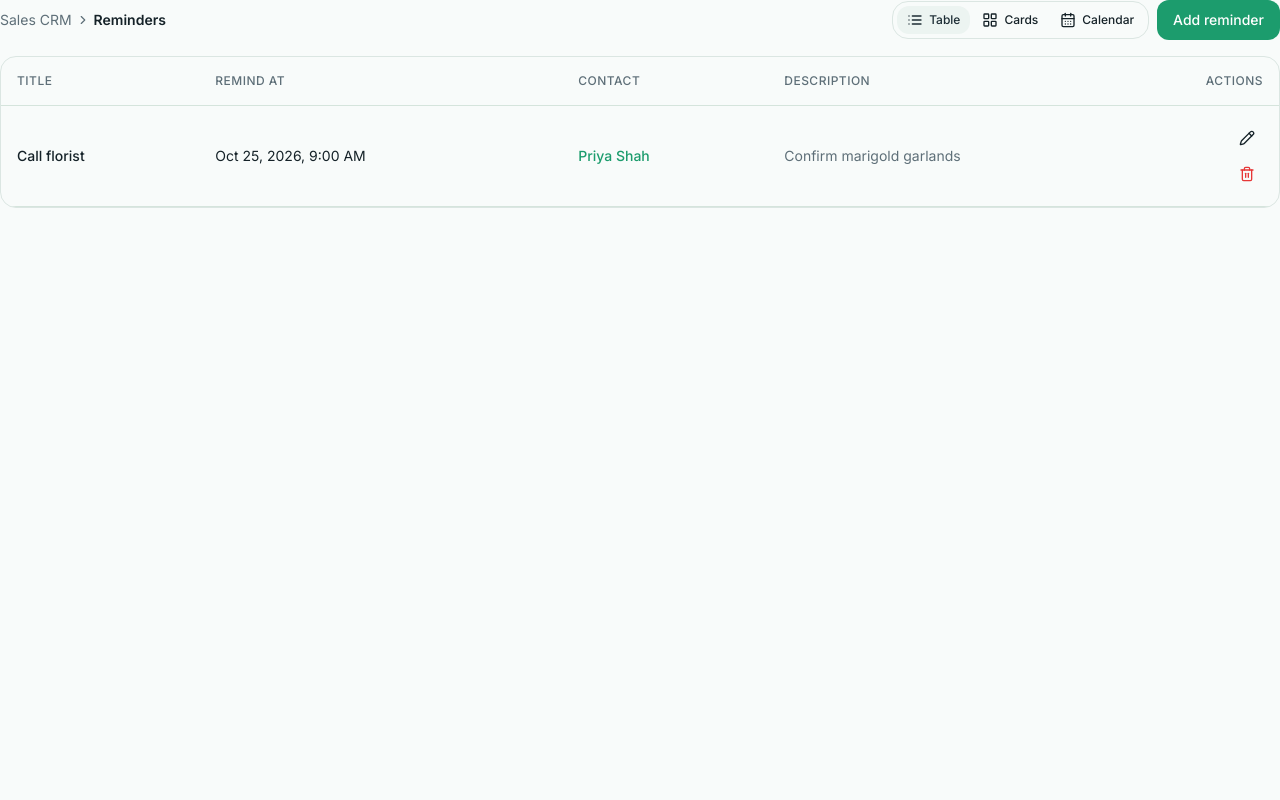
CRM modules › switches reminders between table, cards, and calendar
Check: the text "Call florist" is shown, box [1, 105, 199, 206]
Check: the column heading "Remind at" is shown, box [199, 57, 562, 105]
Click the button with aria-label "Card view" at (1010, 20), box [972, 6, 1048, 34]
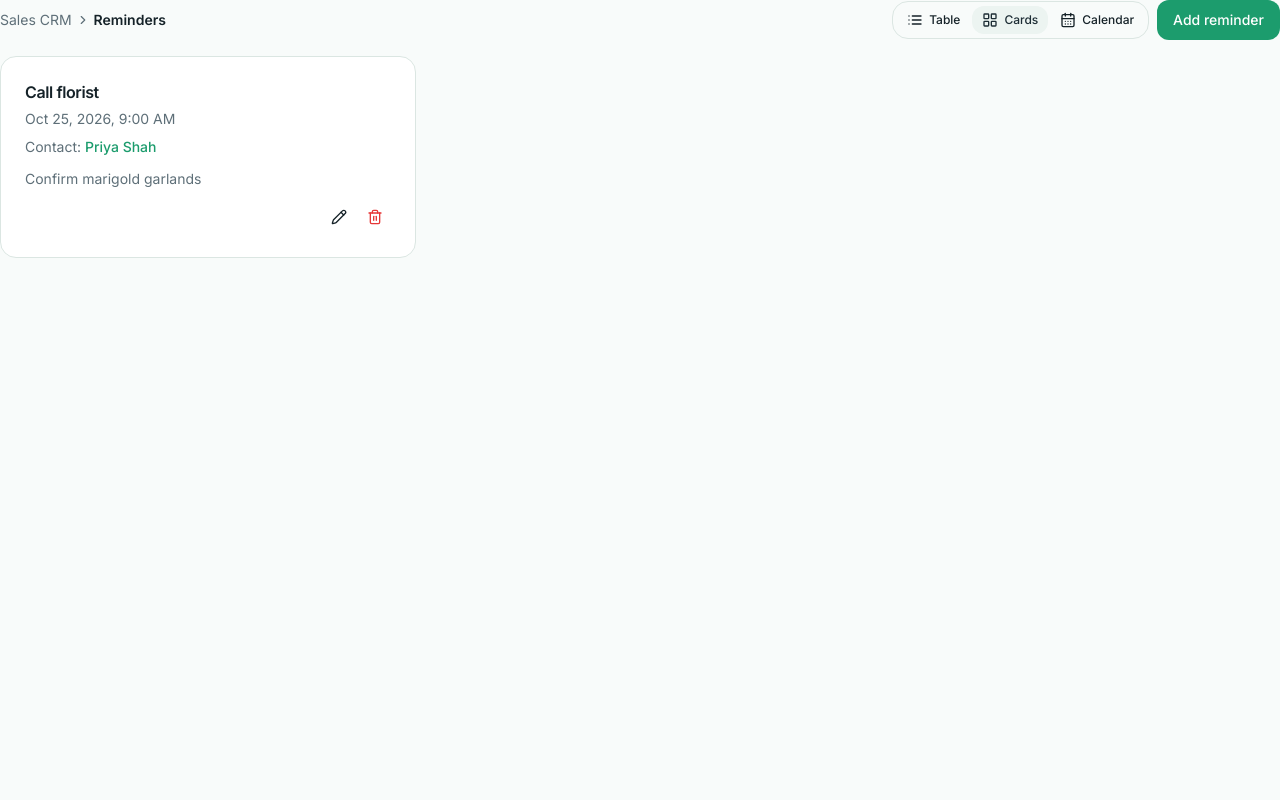
Check: the text "Confirm marigold garlands" is shown, box [25, 170, 201, 187]
Check: the column heading "Remind at" is gone
Click the button with aria-label "Calendar view" at (1097, 20), box [1050, 6, 1144, 34]
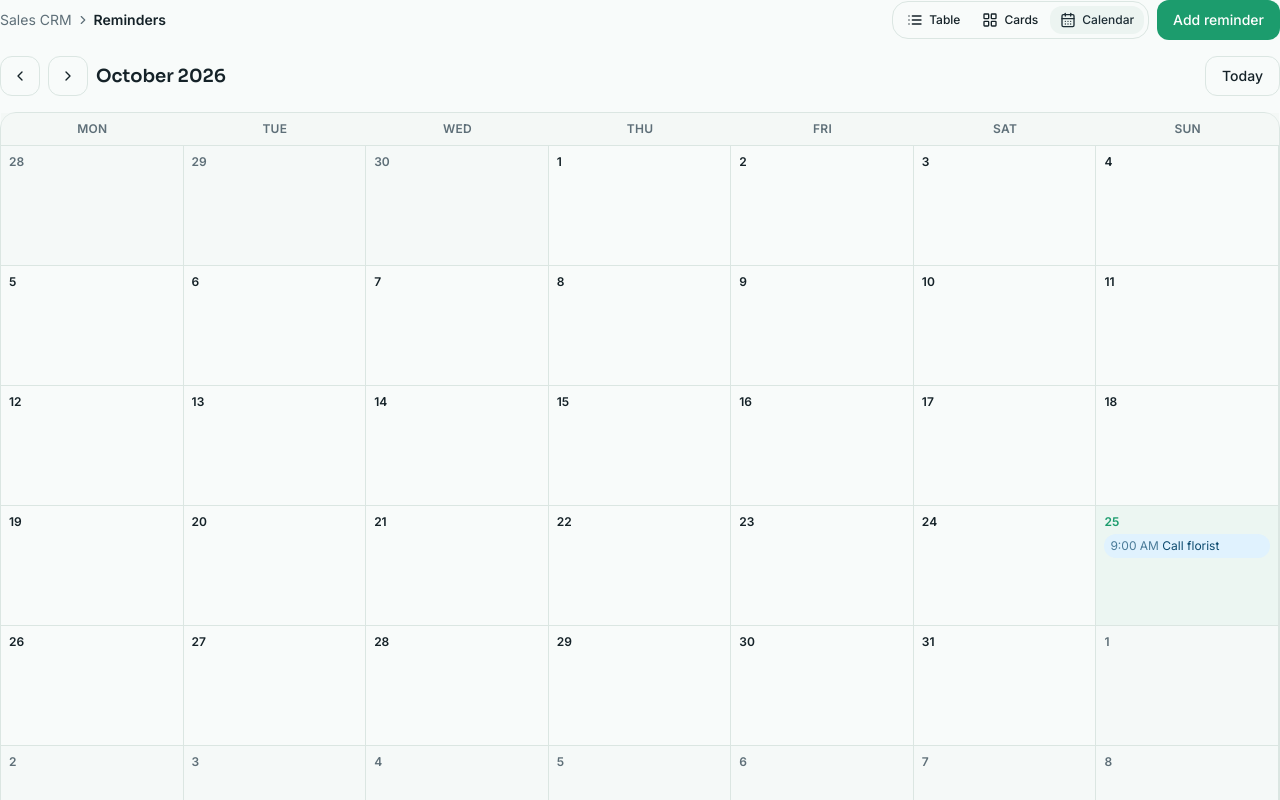
Check: the text "Mon" is shown, box [77, 121, 107, 136]
Check: the button "9:00 AM Call florist" is shown, box [1104, 534, 1270, 558]
